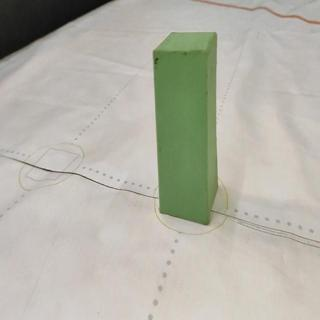greenbox: (154, 32, 218, 225)
